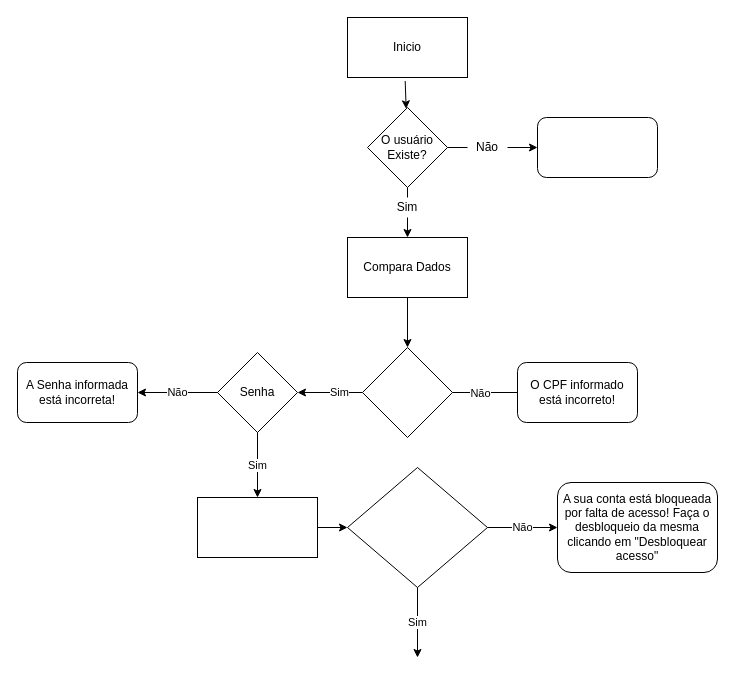
Some shapes in this 735 by 683 pixel diagram are drawn without their labels. The shapes that lost their labels are listed below. From the top down, each one's centre as x and y in pixels, then its label:
At [597,147]: "Usuário Não Encontrado!".
At [407,392]: "CPF".
At [257,527]: "Bloqueado por Falta de acesso".
At [417,527]: "Acesso realizado a MENOS de 180 dias".
